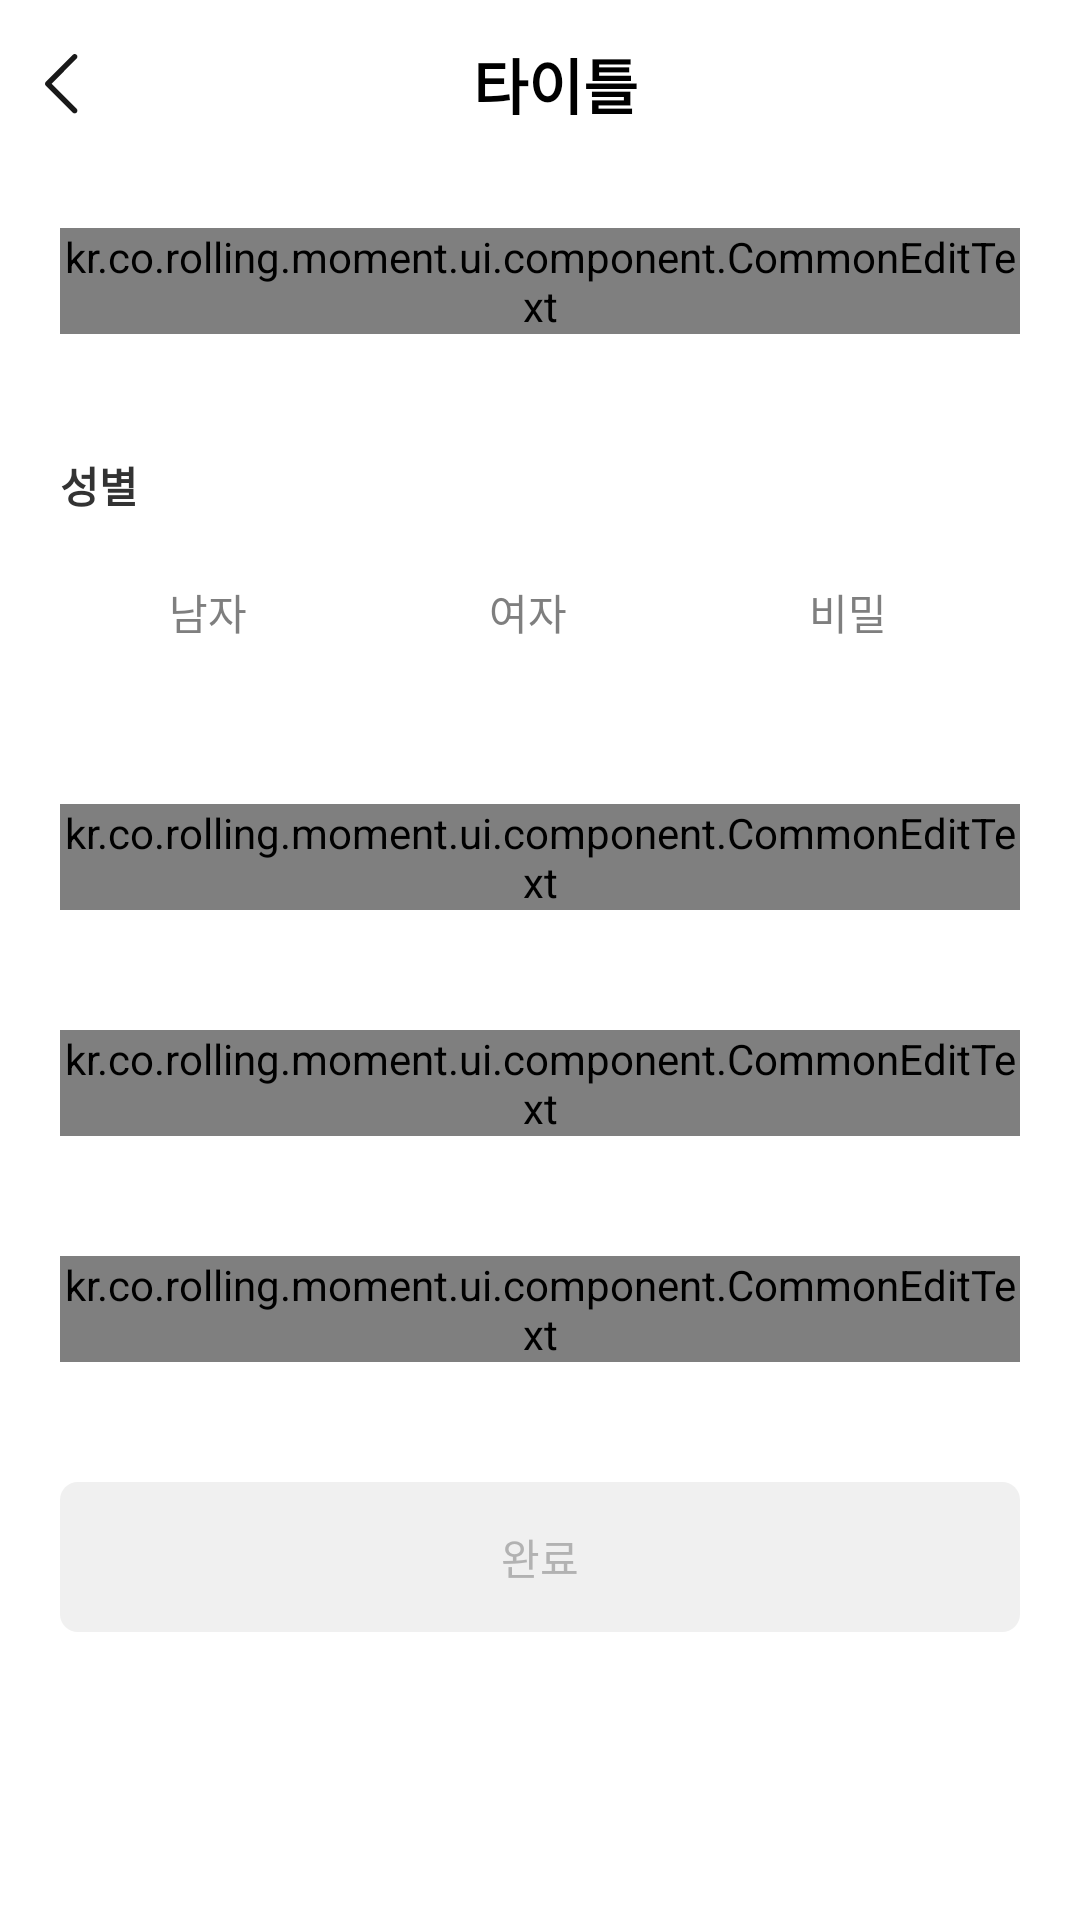

Icons on this 1080*1920 Android screen, each with its box as (x1, y1, x2, y2):
chevron left: (45, 54, 78, 114)
